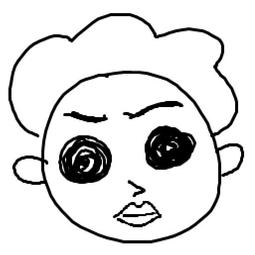cupid_mouth: (111, 199, 163, 229)
ear: (9, 150, 49, 188), (211, 142, 249, 178)
eye: (52, 133, 116, 187), (139, 124, 199, 174)
frowning_eyebrow: (120, 96, 187, 120), (62, 105, 111, 126)
pointy_nose: (125, 177, 148, 197)
